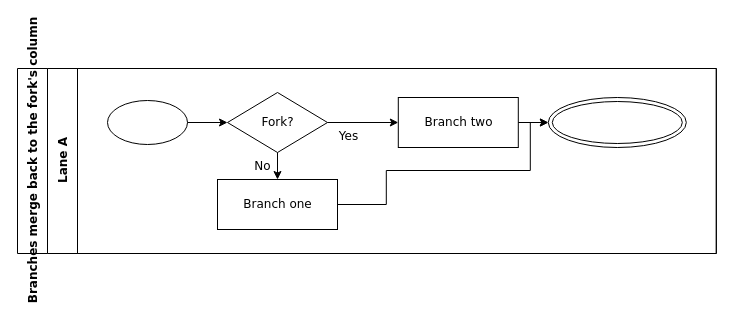
The diagram is 734 pixels wide and 321 high, and some of its shapes have lost their labels. Here are the shapes that lost their labels. From the top down, the box of each, then its label:
(106, 100, 188, 144): Enter
(547, 96, 686, 148): Merge point
